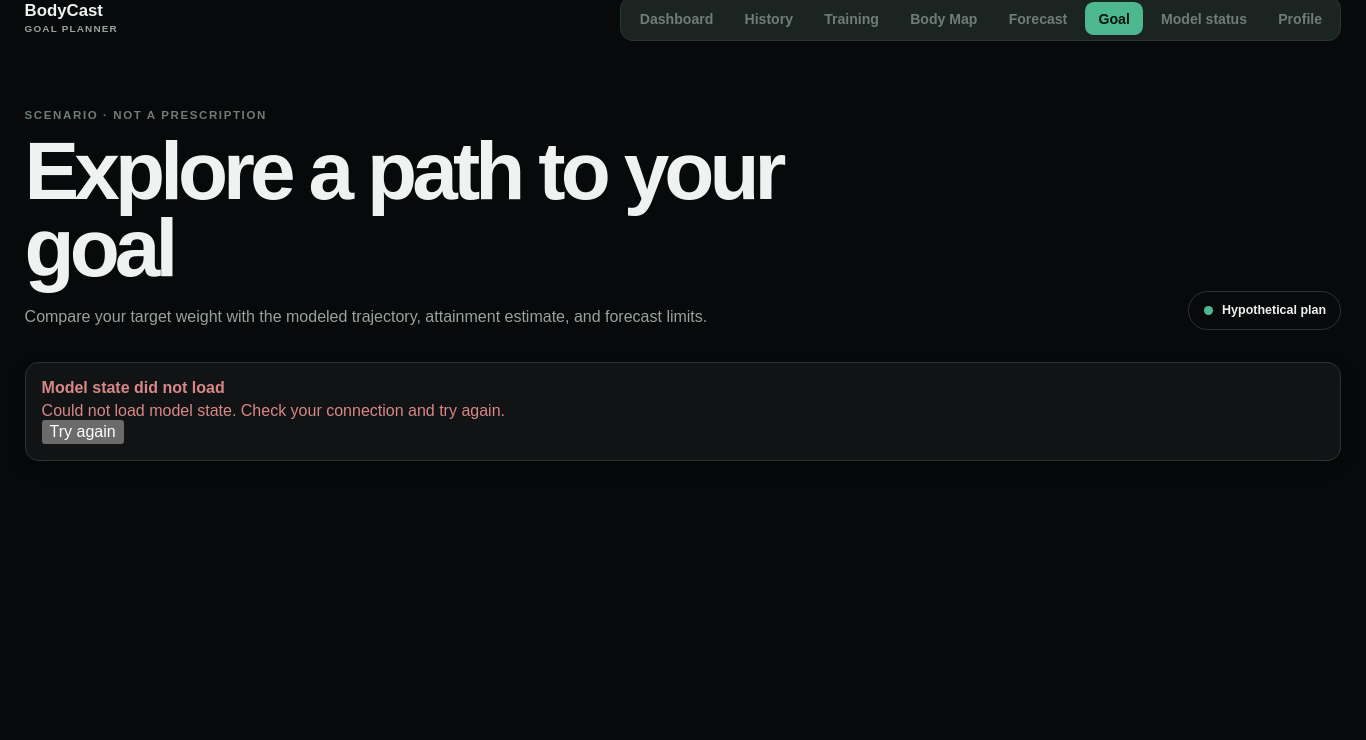
Test: GoalClient interaction › shows a retryable context-load error and retries a failed server request
This screenshot has width=1366, height=740.
Expected: the message is shown, [25, 362, 1341, 461]
Expected: the text "Could not load model state. Check your connection and try again." is shown, [42, 402, 505, 419]
Click the button "Try again": (83, 432) [42, 420, 124, 444]
(page scrolled)
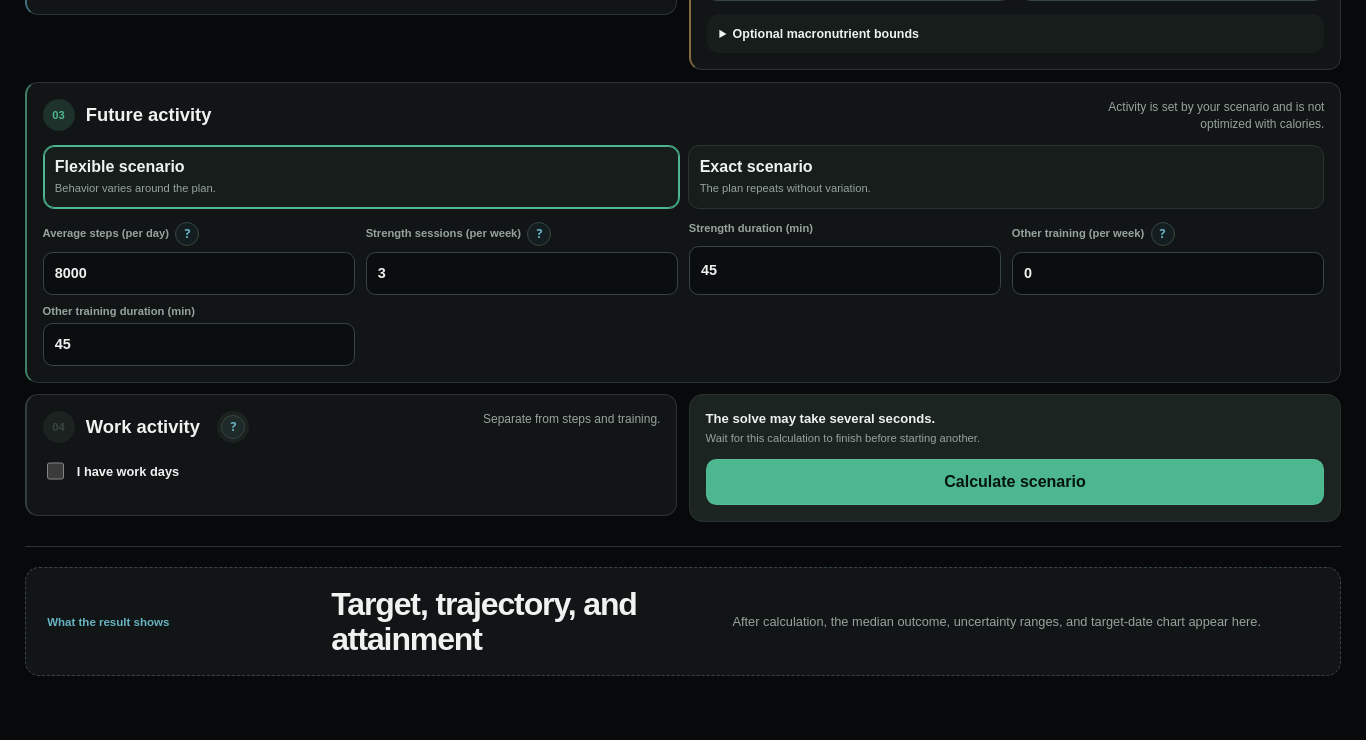
Expected: the button "Calculate scenario" is shown, [706, 459, 1324, 505]
